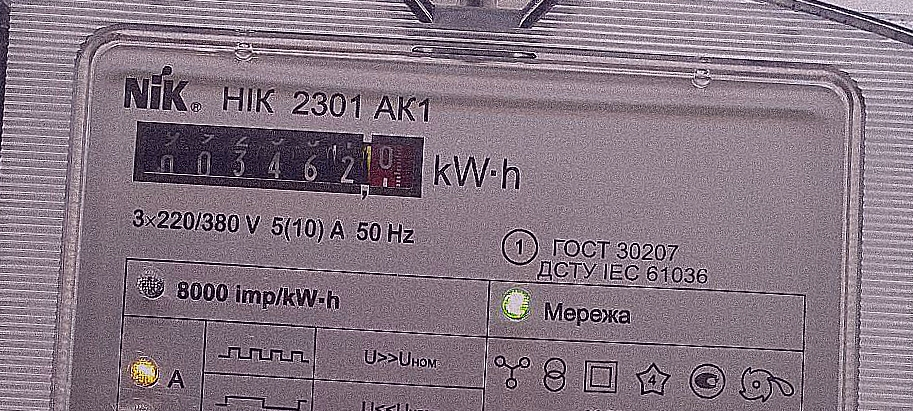0: (194, 147, 213, 177), (376, 142, 395, 171), (156, 151, 176, 175)
2: (338, 152, 357, 185)
3: (229, 147, 248, 180)
4: (266, 148, 284, 181)
6: (299, 150, 321, 185)
9: (160, 129, 181, 149)
screen: (119, 108, 436, 216)
